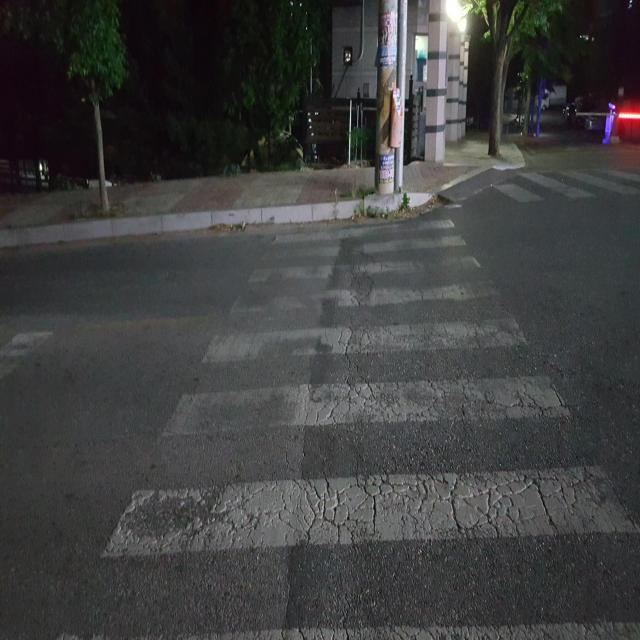횡단보도: (52, 217, 640, 640), (450, 165, 640, 207)
